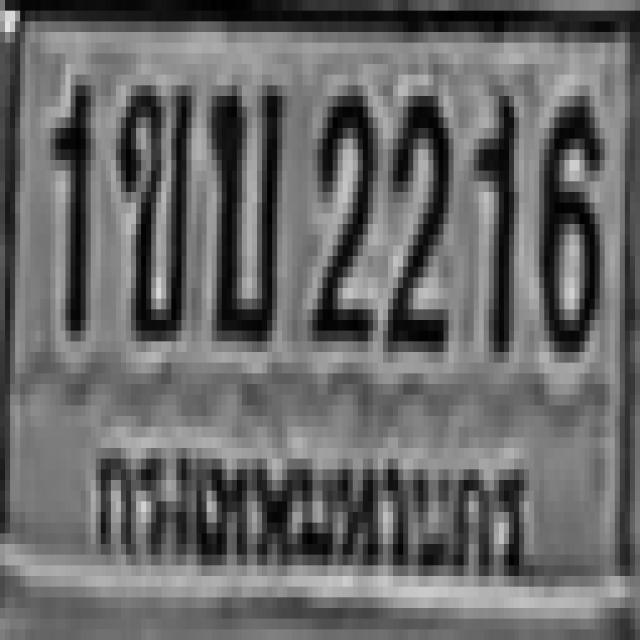1: (474, 80, 514, 347), (50, 74, 86, 330)
11KhorKhai: (113, 74, 189, 330)
2: (307, 80, 373, 336), (383, 86, 448, 342)
35BorBaiMai: (207, 74, 277, 330)
6: (534, 86, 600, 342)
Bangkok: (82, 410, 544, 606)
